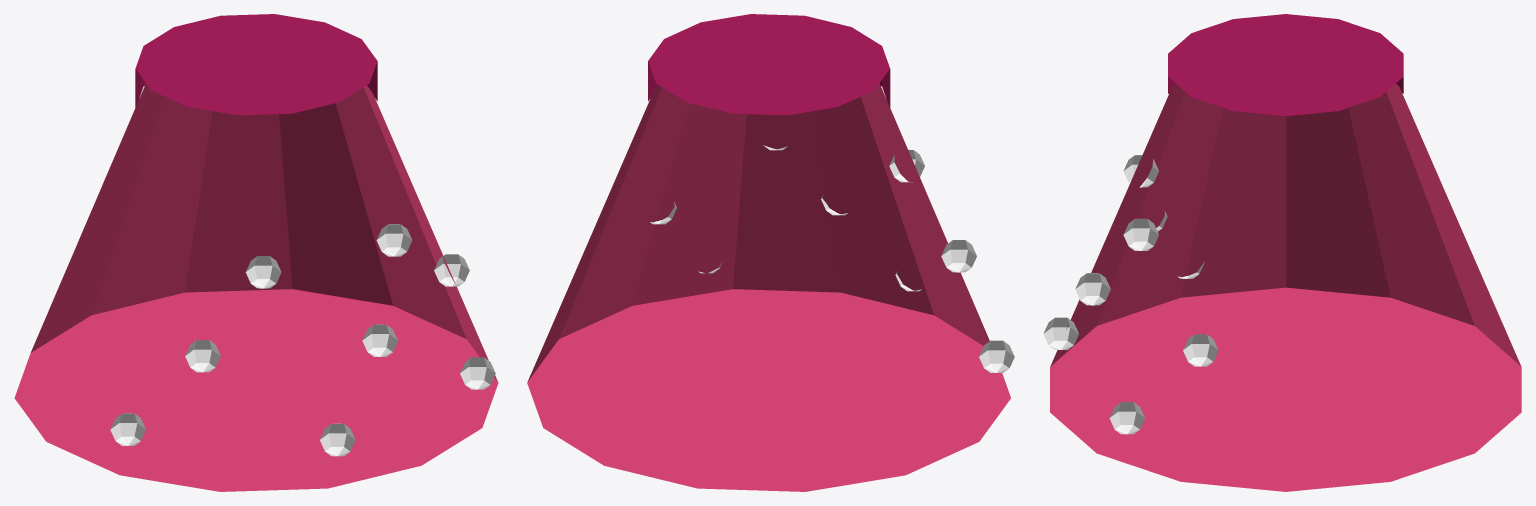
The model's file is kjol.glb.
3 views of the same model, side by side, from view 1: azimuth 30°, elevation 25°; view 2: azimuth 150°, elevation 25°; view 3: azimuth 270°, elevation 25° (orthographic).
Visible parts, largest first — view 1: kjol; view 2: kjol; view 3: kjol.
Part boxes in pixels (bbox=[...]): kjol: bbox=[14, 14, 498, 491]; kjol: bbox=[527, 14, 1014, 491]; kjol: bbox=[1043, 14, 1521, 491].
Bounding box in the file's own units: 0.54 × 0.4 × 0.534.
